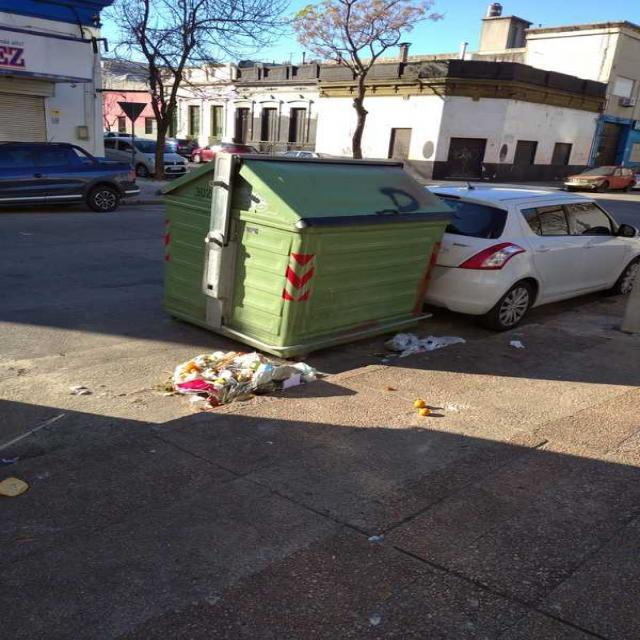garbage: (158, 343, 334, 417), (374, 324, 476, 364)
